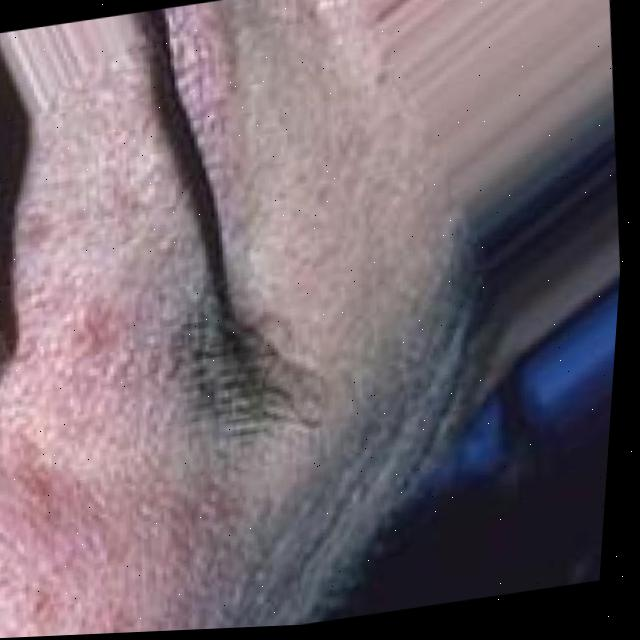Rosacea: (0, 435, 184, 639)
